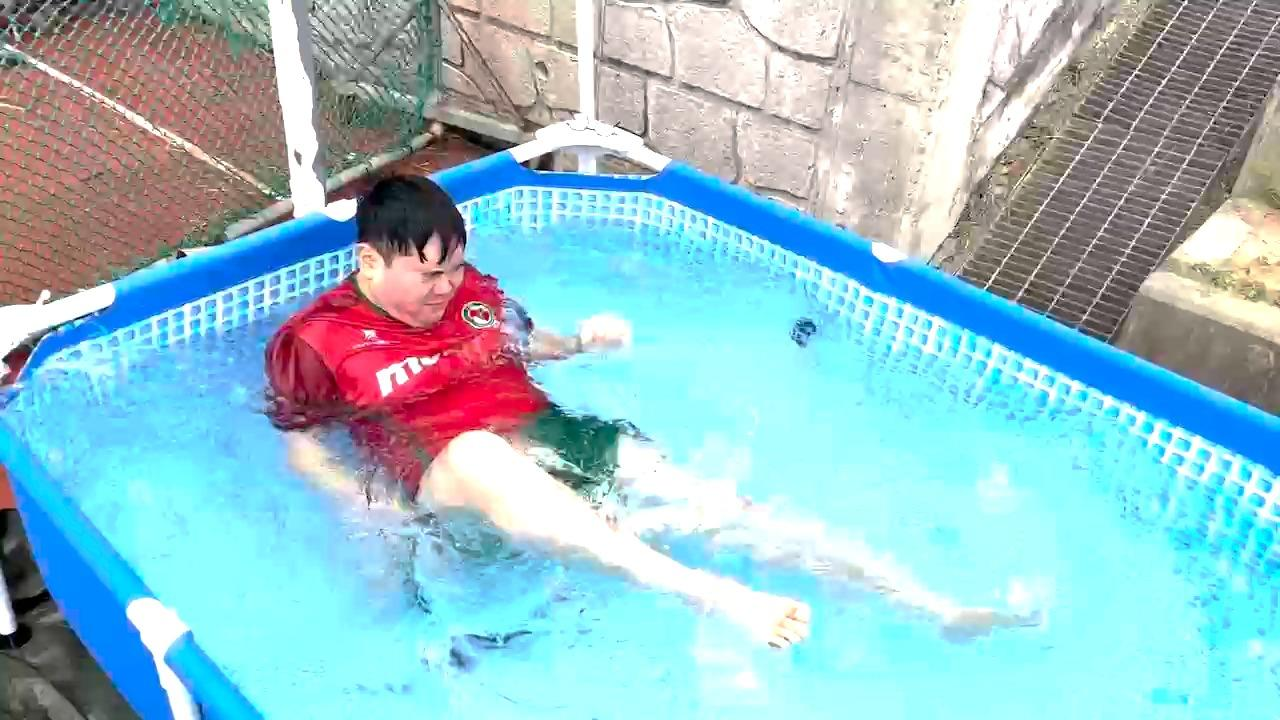Drowning: (185, 156, 1027, 681)
